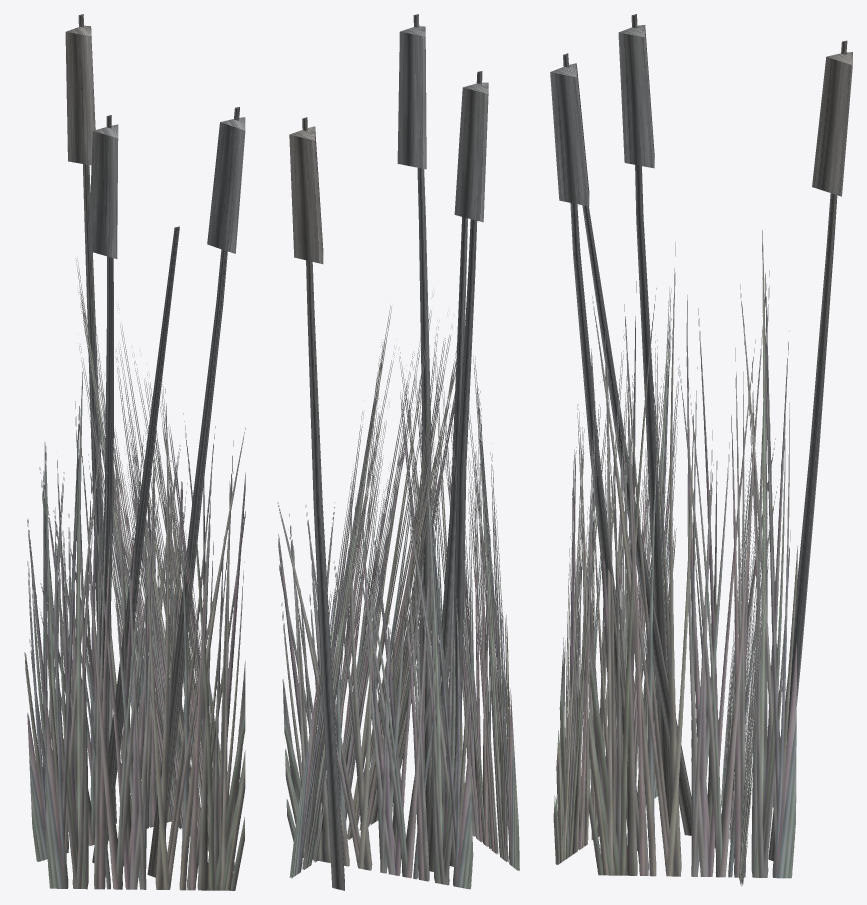
File: reeds_l1.gltf
3 views of the same model, side by side, from view 1: azimuth 30°, elevation 25°; view 2: azimuth 150°, elevation 25°; view 3: azimuth 270°, elevation 25° (orthographic). The views are drawn at different scales.
Parts seen in each view (by area): view 1: reeds_l1; view 2: reeds_l1; view 3: reeds_l1.
Boxes of the visible parts, box(x1,y1,x2,y2) form: reeds_l1: box(24, 14, 245, 890); reeds_l1: box(277, 14, 519, 890); reeds_l1: box(550, 14, 852, 886).
Bounding box in the file's own units: 0.5164 × 2.03 × 0.6799.
Materials: 2 (2 with a texture image).
